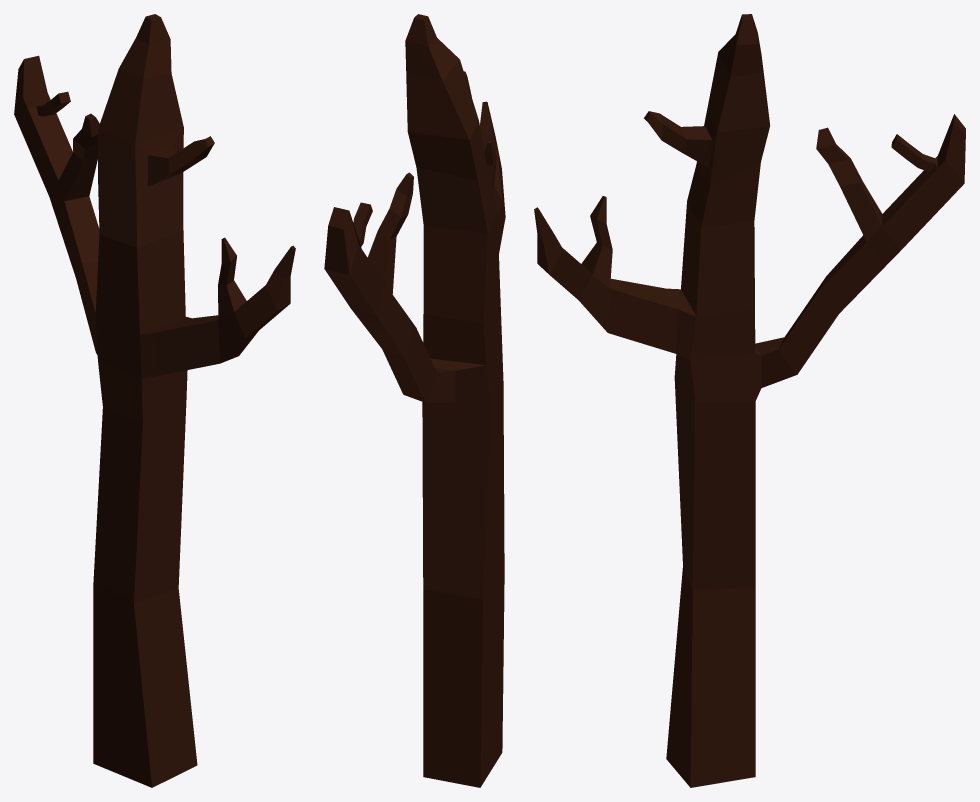
Rendered from deadtreeplain2noelle.obj.
3 views of the same model, side by side, from view 1: azimuth 30°, elevation 25°; view 2: azimuth 150°, elevation 25°; view 3: azimuth 270°, elevation 25° (orthographic). The views are drawn at different scales.
Visible parts, largest first — view 1: Cube.003; view 2: Cube.003; view 3: Cube.003.
Part boxes in pixels (bbox=[...]): Cube.003: bbox=[14, 14, 295, 787]; Cube.003: bbox=[324, 14, 505, 787]; Cube.003: bbox=[534, 14, 965, 787].
Size of the model in its own units: 0.3201 by 2.19 by 1.12.
